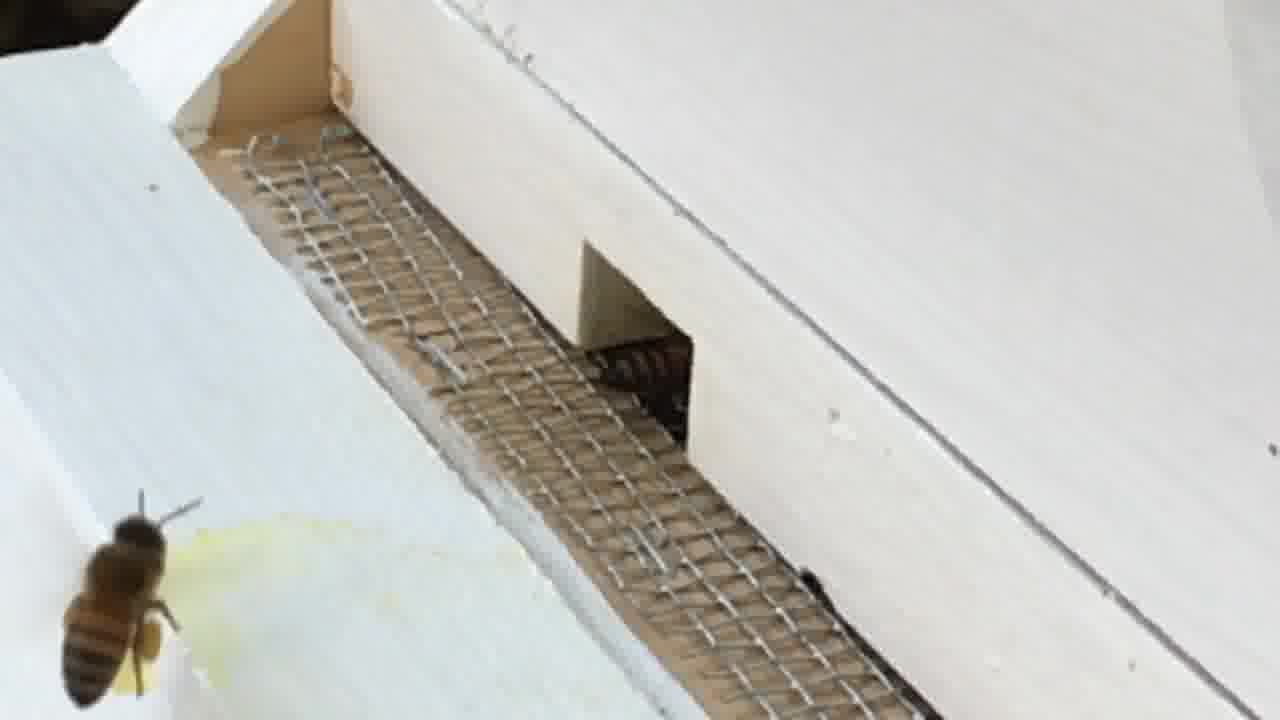pollen: (62, 490, 176, 708)
